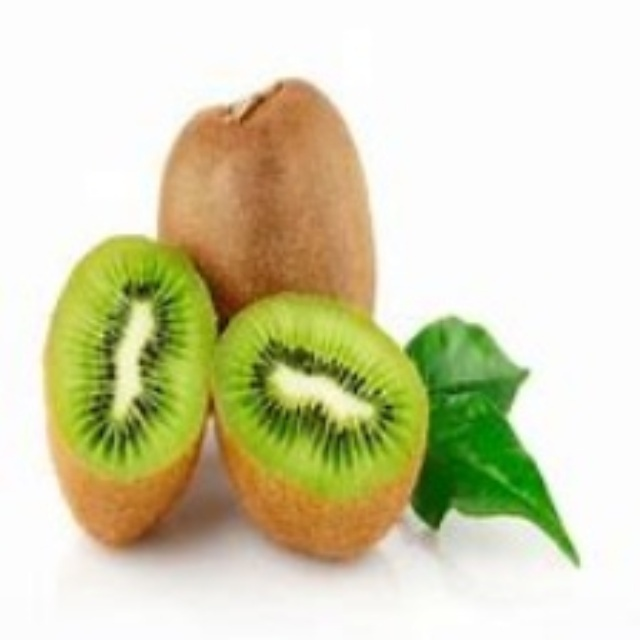kiwi: (204, 289, 430, 575), (36, 233, 217, 556), (153, 73, 373, 338)
